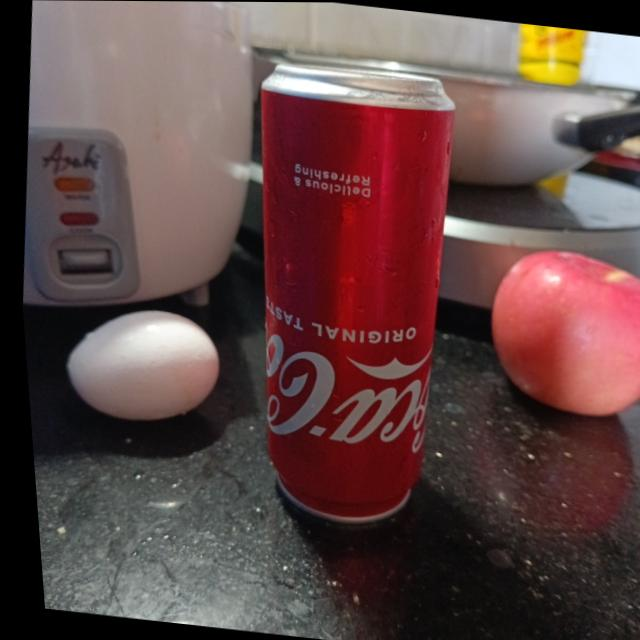apple: (473, 241, 640, 419)
coke: (214, 54, 482, 529)
egg: (53, 301, 221, 429)
